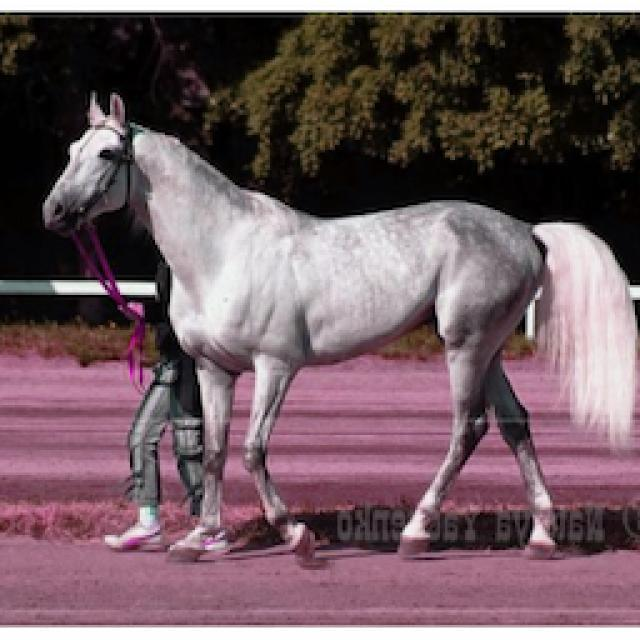Horse: (38, 87, 640, 567)
